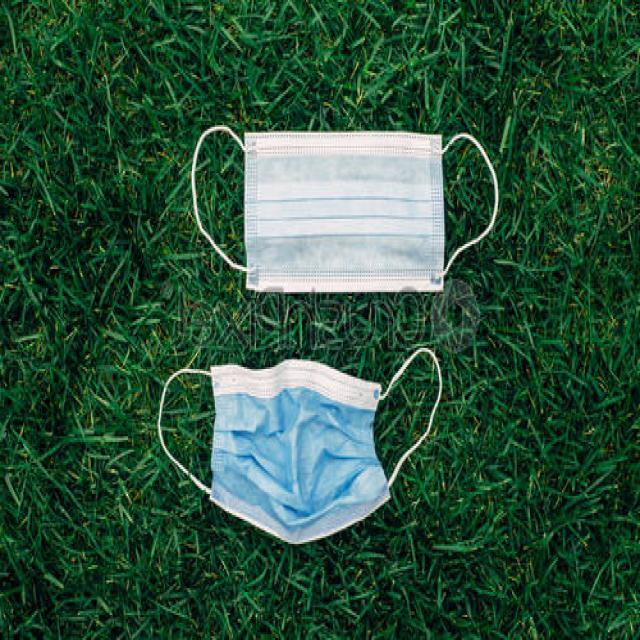face mask: (161, 338, 444, 540), (195, 121, 500, 294)
